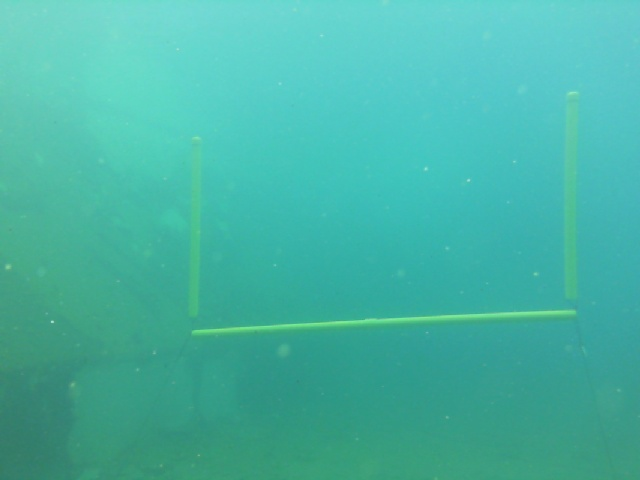channel: (185, 90, 582, 343)
